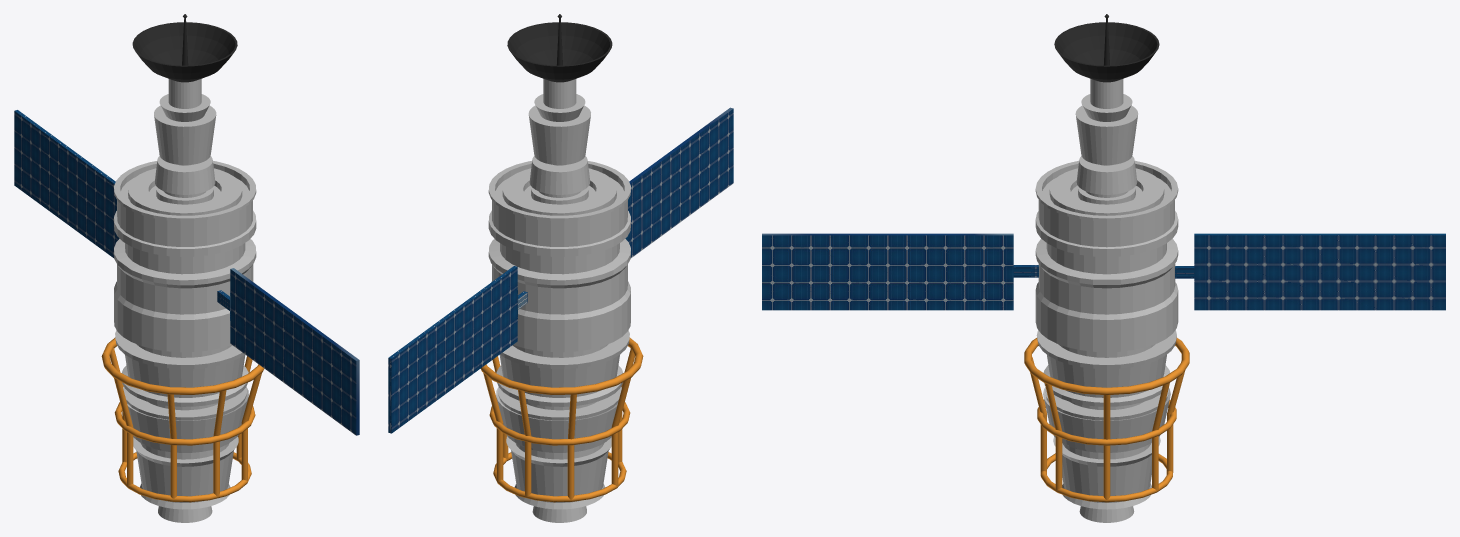
File: Cartosat-3.glb
The picture shows the model from 3 angles, left to right: view 1: azimuth 30°, elevation 25°; view 2: azimuth 150°, elevation 25°; view 3: azimuth 270°, elevation 25°; orthographic projection.
Visible parts, largest first — view 1: Cylinder, Cube.001, Cube.002, Circle.001, Cylinder.001, Circle; view 2: Cylinder, Cube.002, Cube.001, Circle.001, Cylinder.001, Circle; view 3: Cylinder, Cube.001, Cube.002, Circle.001, Cylinder.001, Circle.
Boxes of the visible parts, <box> form: Cylinder: <box>114,79,256,522</box>; Cube.001: <box>217,268,359,435</box>; Cube.002: <box>14,110,119,258</box>; Circle.001: <box>132,14,237,82</box>; Cylinder.001: <box>101,337,264,502</box>; Circle: <box>109,348,262,498</box>; Cylinder: <box>488,79,630,522</box>; Cube.002: <box>388,266,527,433</box>; Cube.001: <box>625,107,733,258</box>; Circle.001: <box>507,14,612,82</box>; Cylinder.001: <box>480,337,643,502</box>; Circle: <box>483,347,634,499</box>; Cylinder: <box>1035,78,1178,522</box>; Cube.001: <box>762,233,1038,310</box>; Cube.002: <box>1175,233,1445,310</box>; Circle.001: <box>1054,14,1159,82</box>; Cylinder.001: <box>1024,338,1189,502</box>; Circle: <box>1030,357,1185,499</box>.
Size of the model in its own units: 3.12 by 10.24 by 12.76.
Materials: 4 (1 with a texture image).
